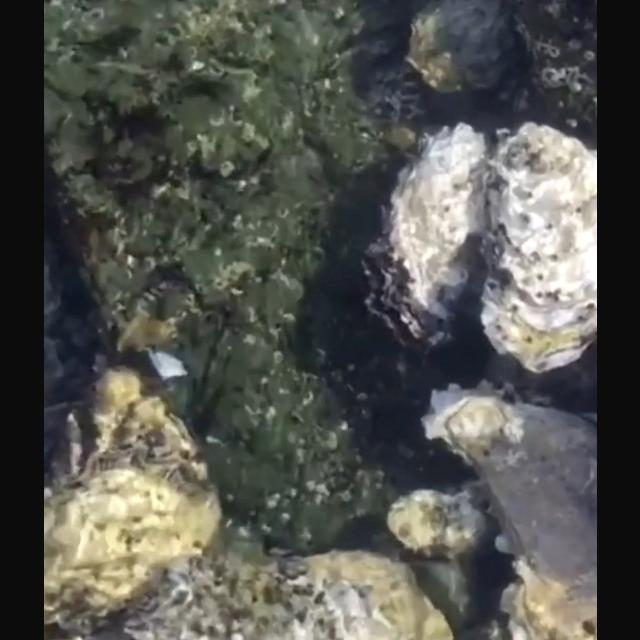Oyster-Closed: (43, 370, 227, 640), (419, 383, 596, 640), (478, 126, 596, 380), (126, 552, 454, 640), (405, 0, 517, 104), (384, 491, 490, 564)
Oyster-Open: (363, 126, 493, 360)
